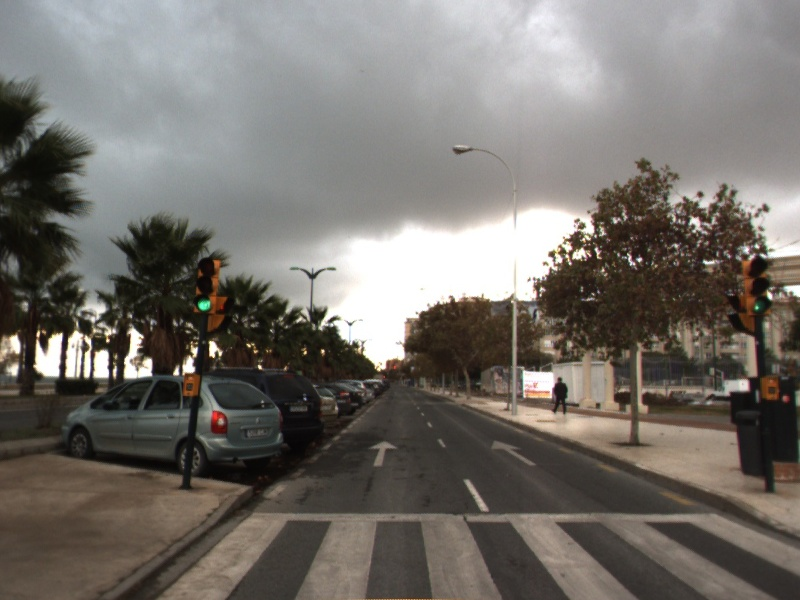STRAIGHT: (489, 439, 538, 467), (366, 439, 400, 468)
